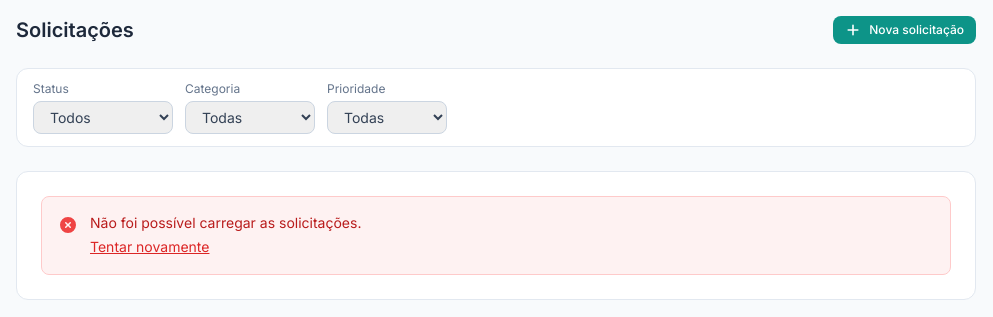
Scenario: ListaSolicitacoes › re-busca ao clicar em "Tentar novamente"
Click the button "Tentar novamente" at (150, 247), box x1=90 y1=237 x2=210 y2=257
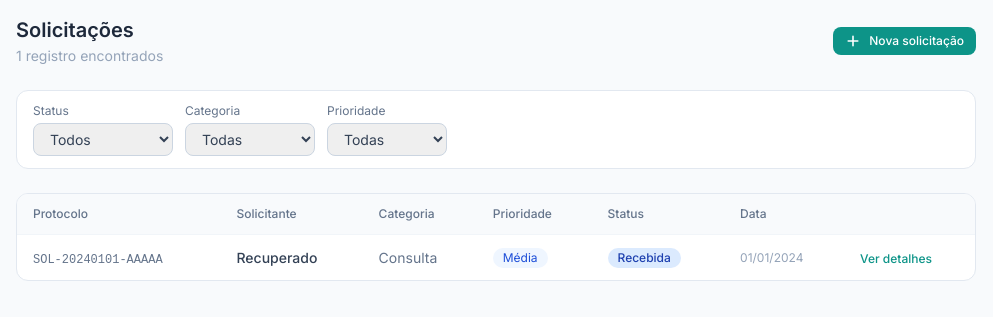
Expected: the text "Recuperado" is shown, x1=236 y1=248 x2=317 y2=266
